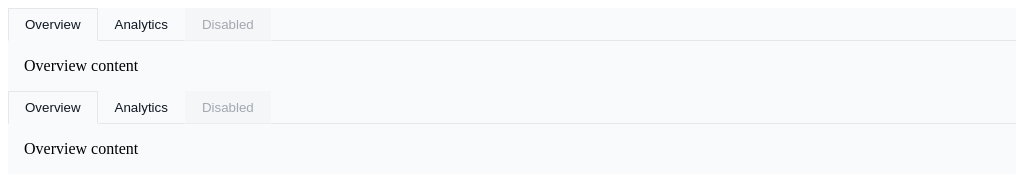
TabsComponent › should destroy non-cached tab content
Click the 5th tab with class "ui-tabs__tab" at (141, 108), box x1=98 y1=91 x2=185 y2=124
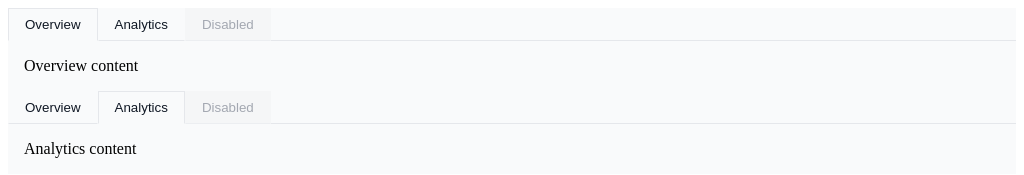
Expected: the text "Analytics content" is shown, x1=24 y1=140 x2=136 y2=157
Click the 4th tab with class "ui-tabs__tab" at (53, 108), box x1=8 y1=91 x2=98 y2=124
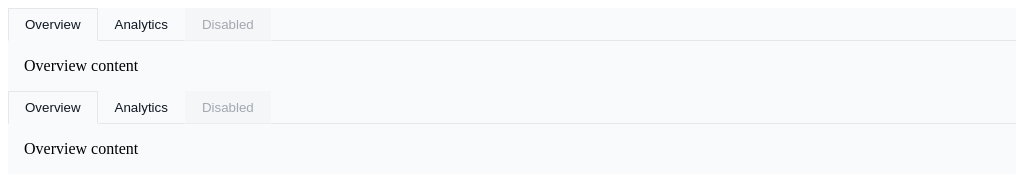
Expected: the text with test id "analytics-content" is gone
